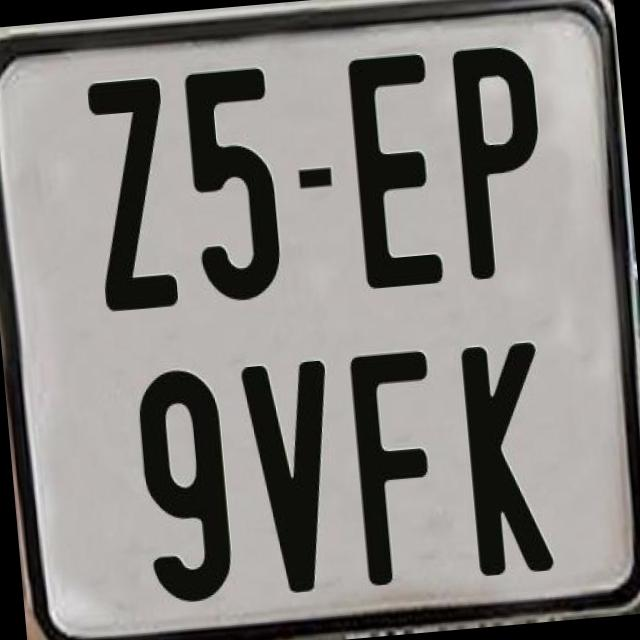5: (180, 64, 288, 305)
9: (132, 367, 234, 612)
E: (344, 51, 443, 297)
F: (344, 349, 447, 586)
K: (457, 336, 555, 572)
P: (450, 40, 553, 282)
V: (238, 358, 345, 597)
Z: (85, 76, 177, 313)
